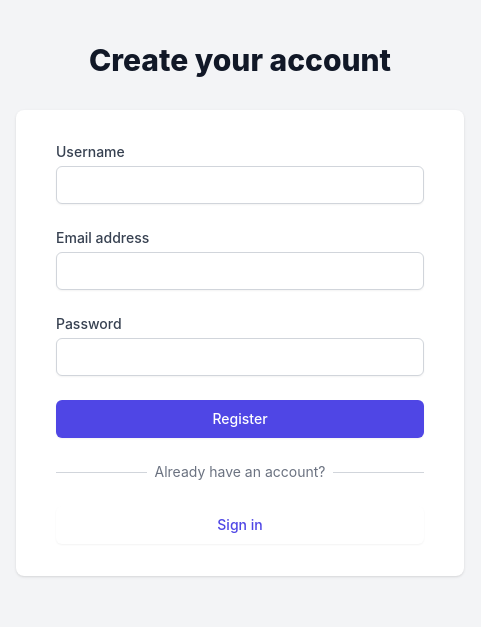
Test: Register Component › displays error message on registration failure
Type "existinguser" into the field labelled "Username".
click(240, 185); type("existinguser")  # box [56,166,424,204]
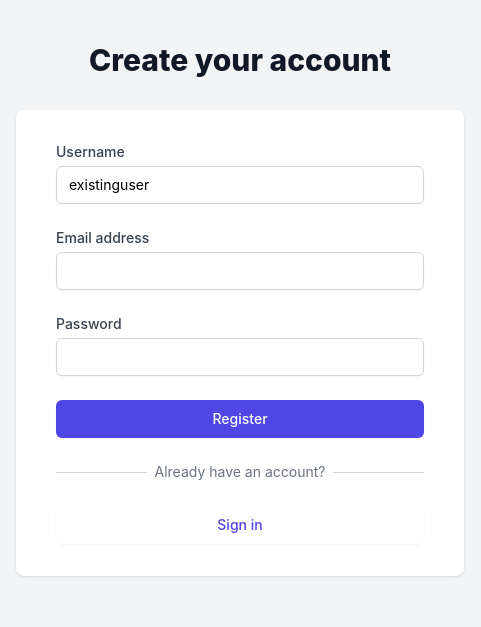
Type "existing@example.com" into the field labelled "Email address".
click(240, 271); type("existing@example.com")  # box [56,252,424,290]
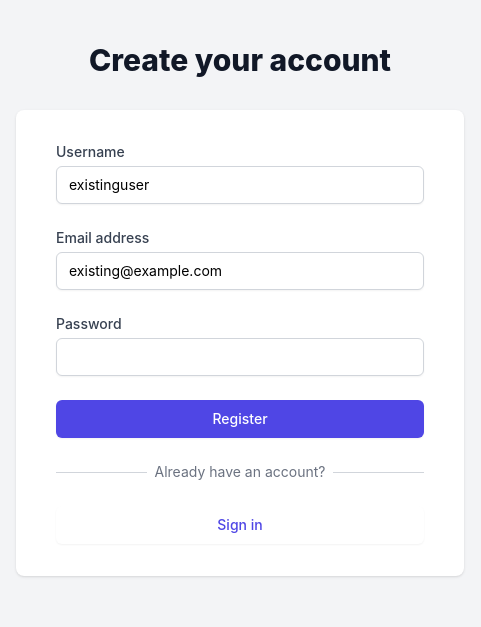
Type "password123" into the password field labelled "Password".
click(240, 357); type("password123")  # box [56,338,424,376]
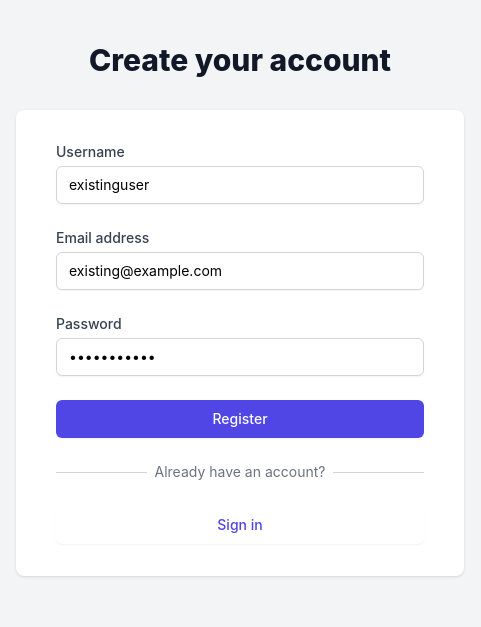
Click the button "Register".
click(240, 419)  # box [56,400,424,438]
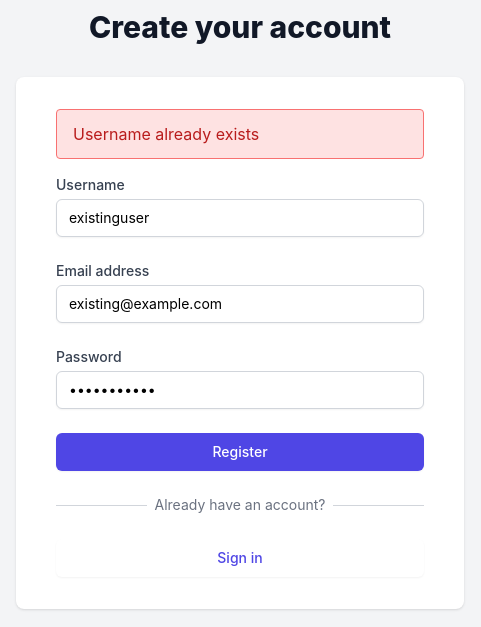
Expected: the text "Username already exists" is shown, [73,124,259,144]
